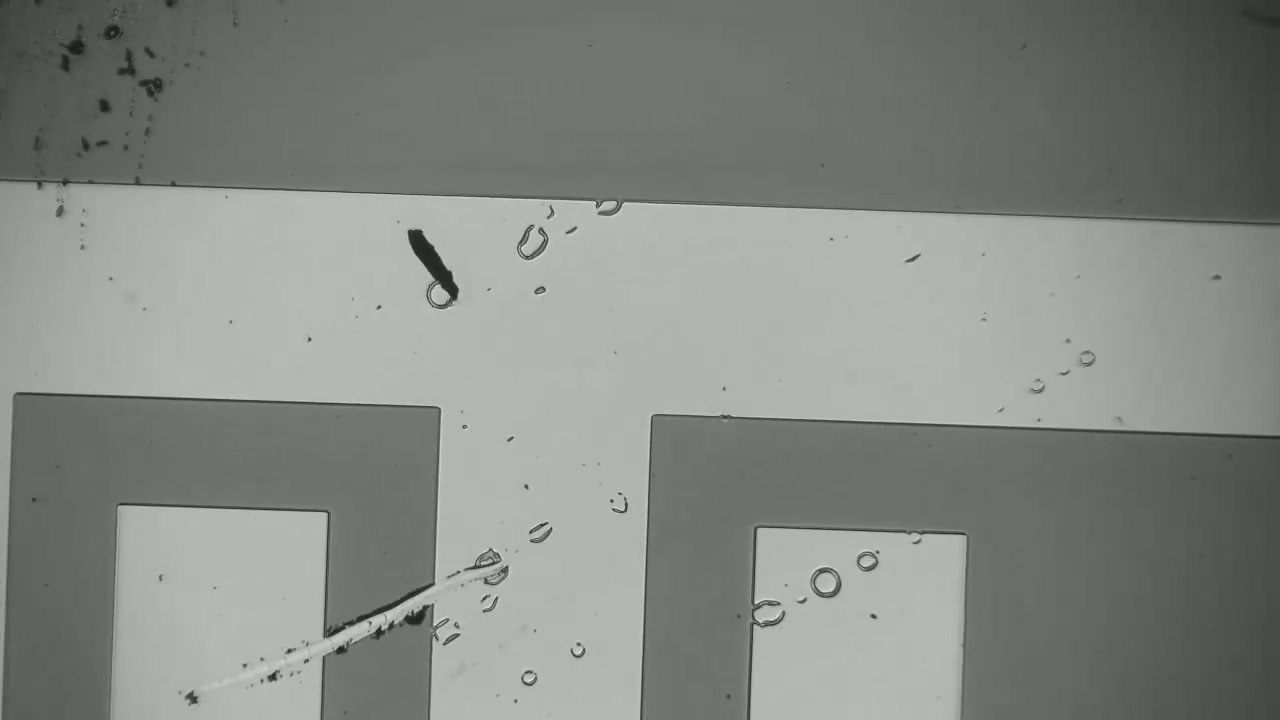Short_circuit: (288, 555, 463, 688)
